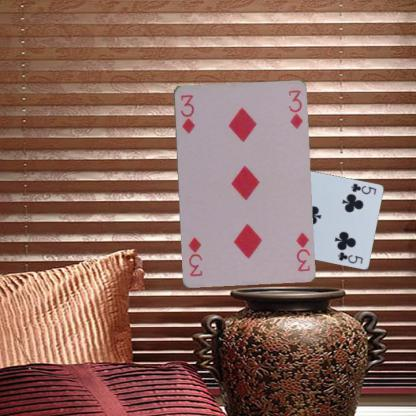3d: (177, 91, 196, 135), (293, 229, 311, 273)
5c: (348, 181, 378, 196)
